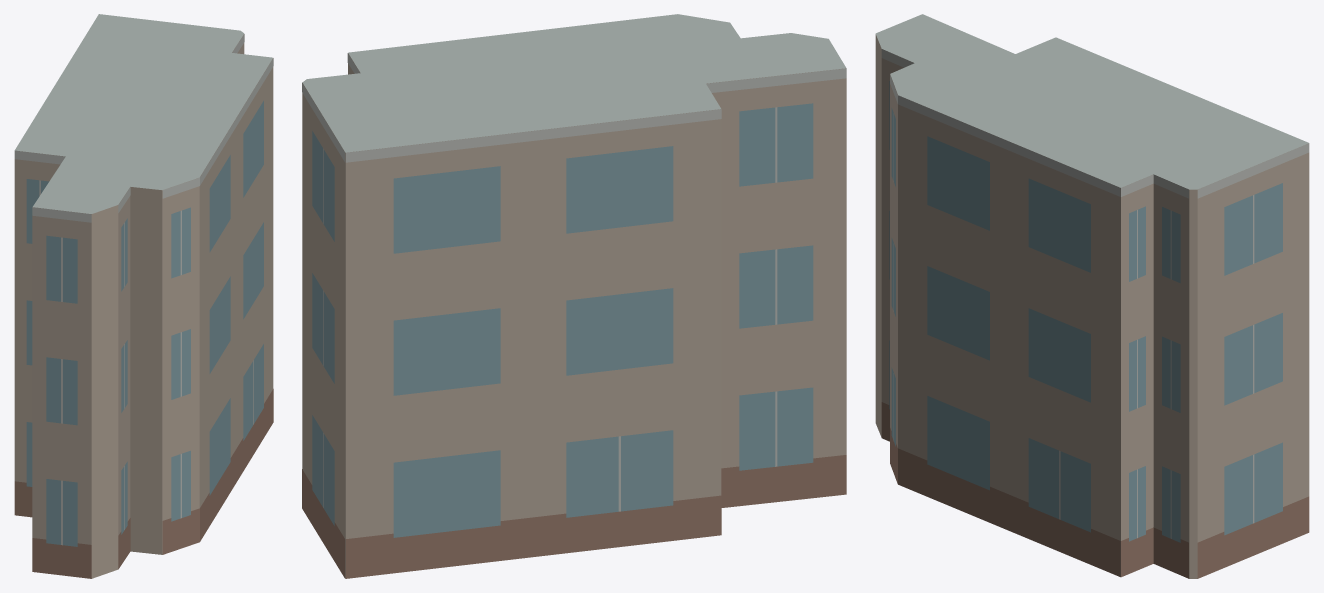
The model's file is survey-upis-32755287.glb.
3 views of the same model, side by side, from view 1: azimuth 30°, elevation 25°; view 2: azimuth 150°, elevation 25°; view 3: azimuth 270°, elevation 25° (orthographic). The views are drawn at different scales.
Parts seen in each view (by area): view 1: survey-upis-32755287.tmp; view 2: survey-upis-32755287.tmp; view 3: survey-upis-32755287.tmp.
Part boxes in pixels (bbox=[...]): survey-upis-32755287.tmp: bbox=[14, 14, 273, 578]; survey-upis-32755287.tmp: bbox=[302, 14, 846, 578]; survey-upis-32755287.tmp: bbox=[875, 14, 1309, 578].
Bounding box in the file's own units: 9.97 × 10.3 × 10.41.
